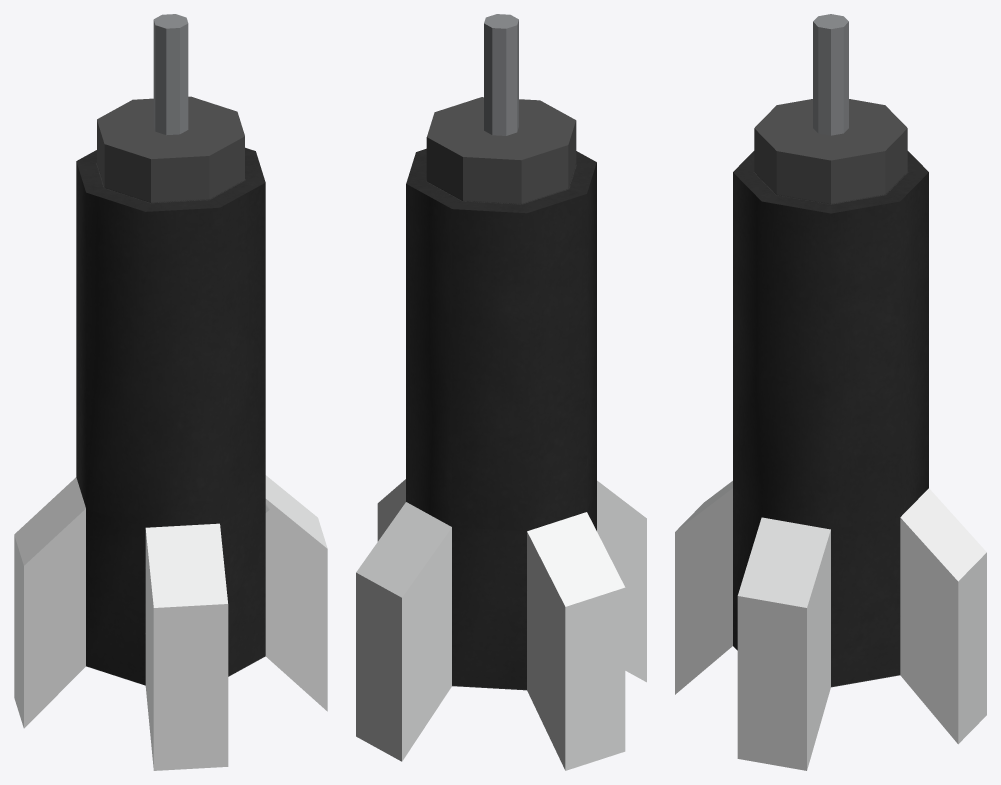
The model's file is texture_anes.fbx.
The picture shows the model from 3 angles, left to right: view 1: azimuth 30°, elevation 25°; view 2: azimuth 150°, elevation 25°; view 3: azimuth 270°, elevation 25°; orthographic projection.
Parts seen in each view (by area): view 1: Cylinder001; view 2: Cylinder001; view 3: Cylinder001.
Boxes of the visible parts, box(x1,y1,x2,y2) form: Cylinder001: box(14, 14, 327, 770); Cylinder001: box(356, 14, 646, 770); Cylinder001: box(675, 14, 986, 770).
Bounding box in the file's own units: 14.84 × 35.88 × 14.84.
Materials: 1 (1 with a texture image).
